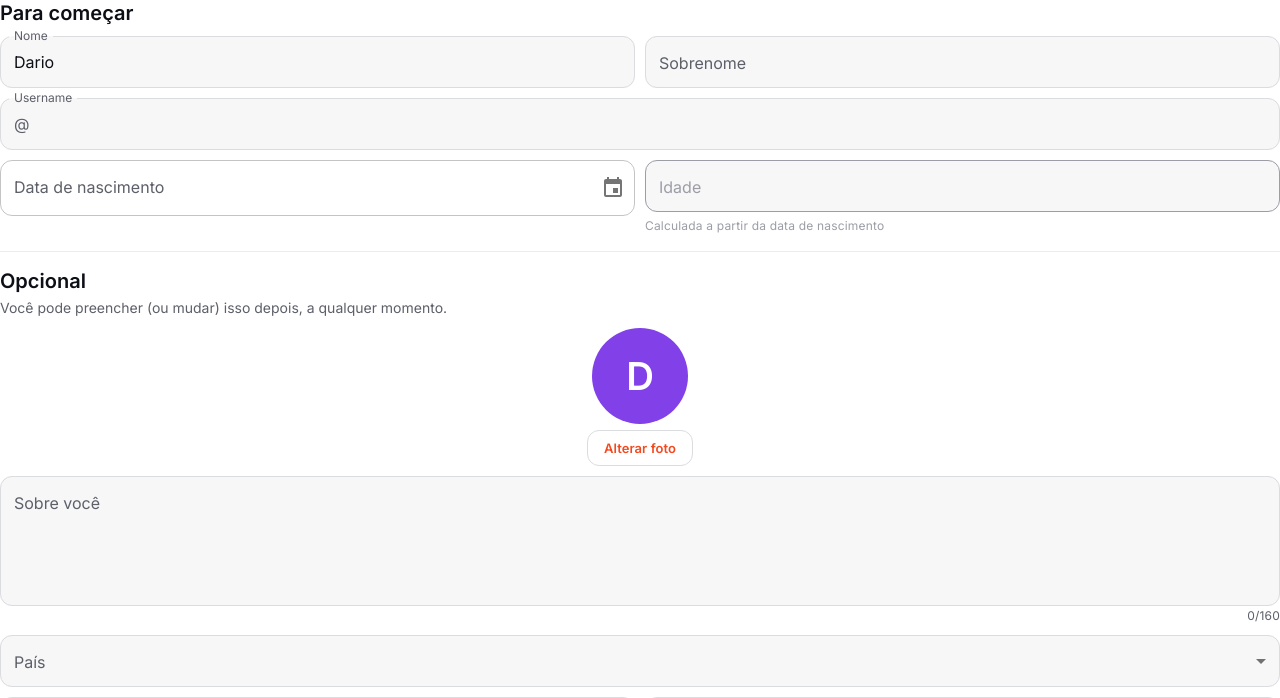
Test: OnboardingForm › rejects an invalid username format
Type "da" into the field labelled "Username" at (659, 124), box left=38, top=99, right=1279, bottom=150
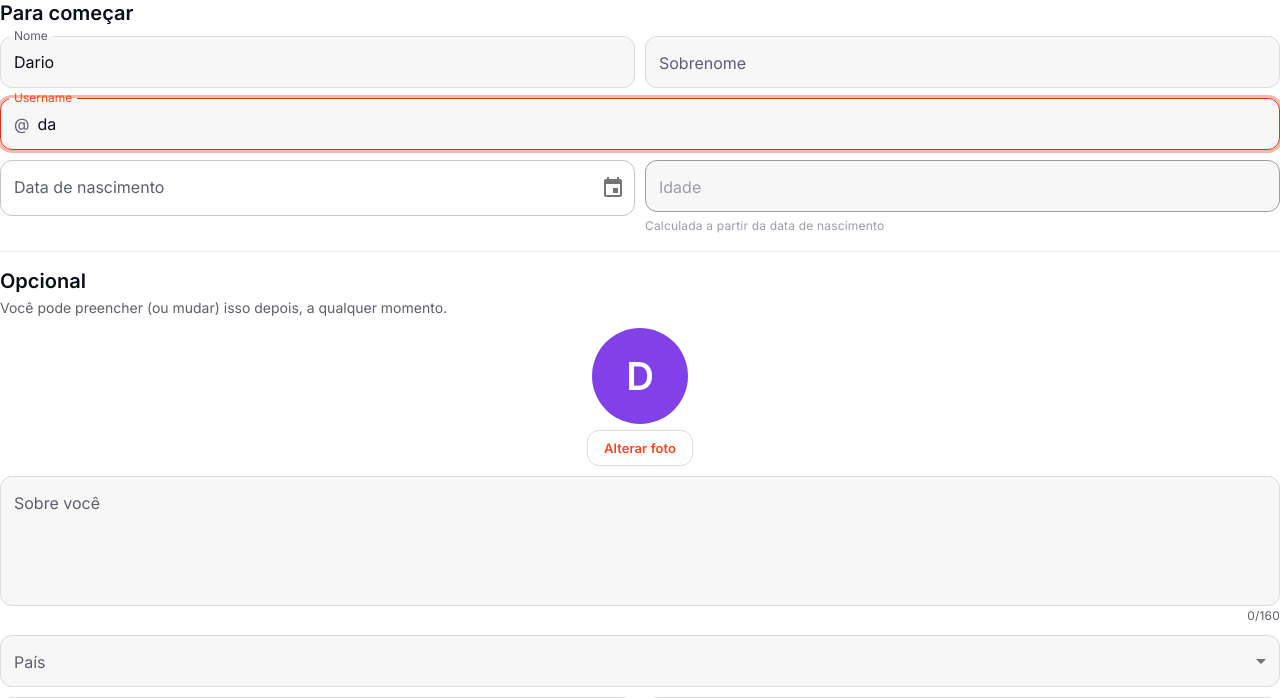
Press Tab
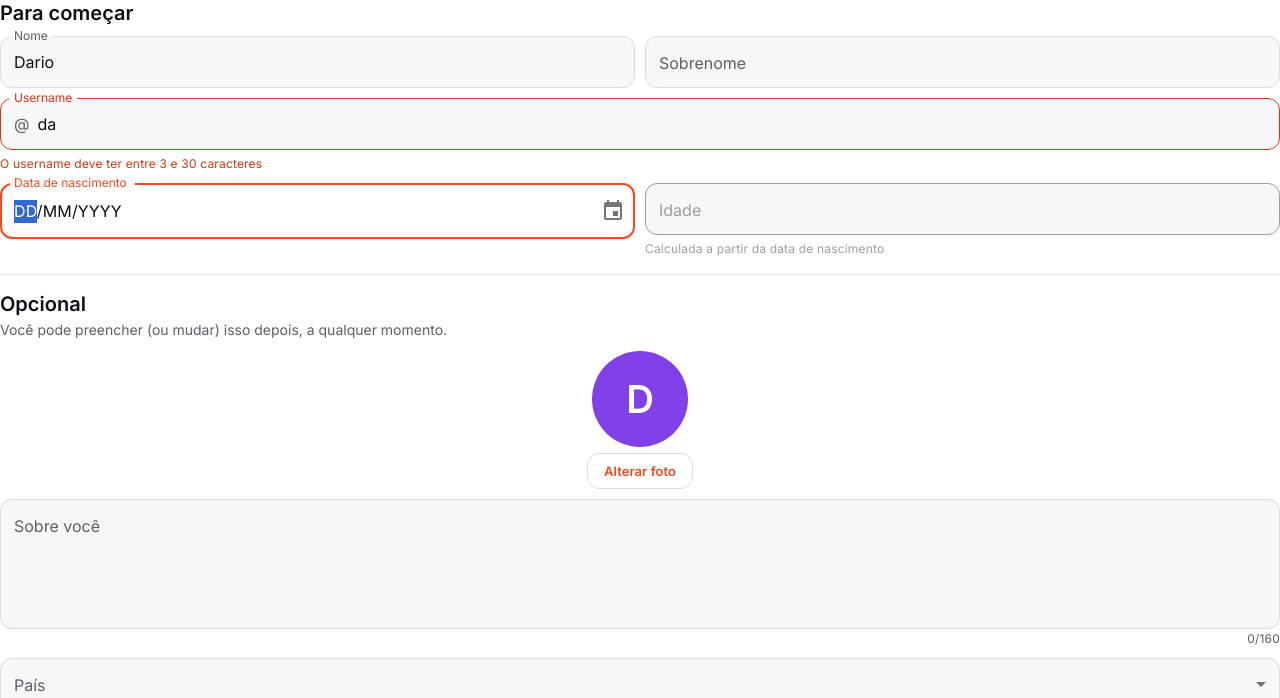
expect the text "O username deve ter entre 3 e 30 caracteres" is shown: met, box left=0, top=156, right=262, bottom=171
